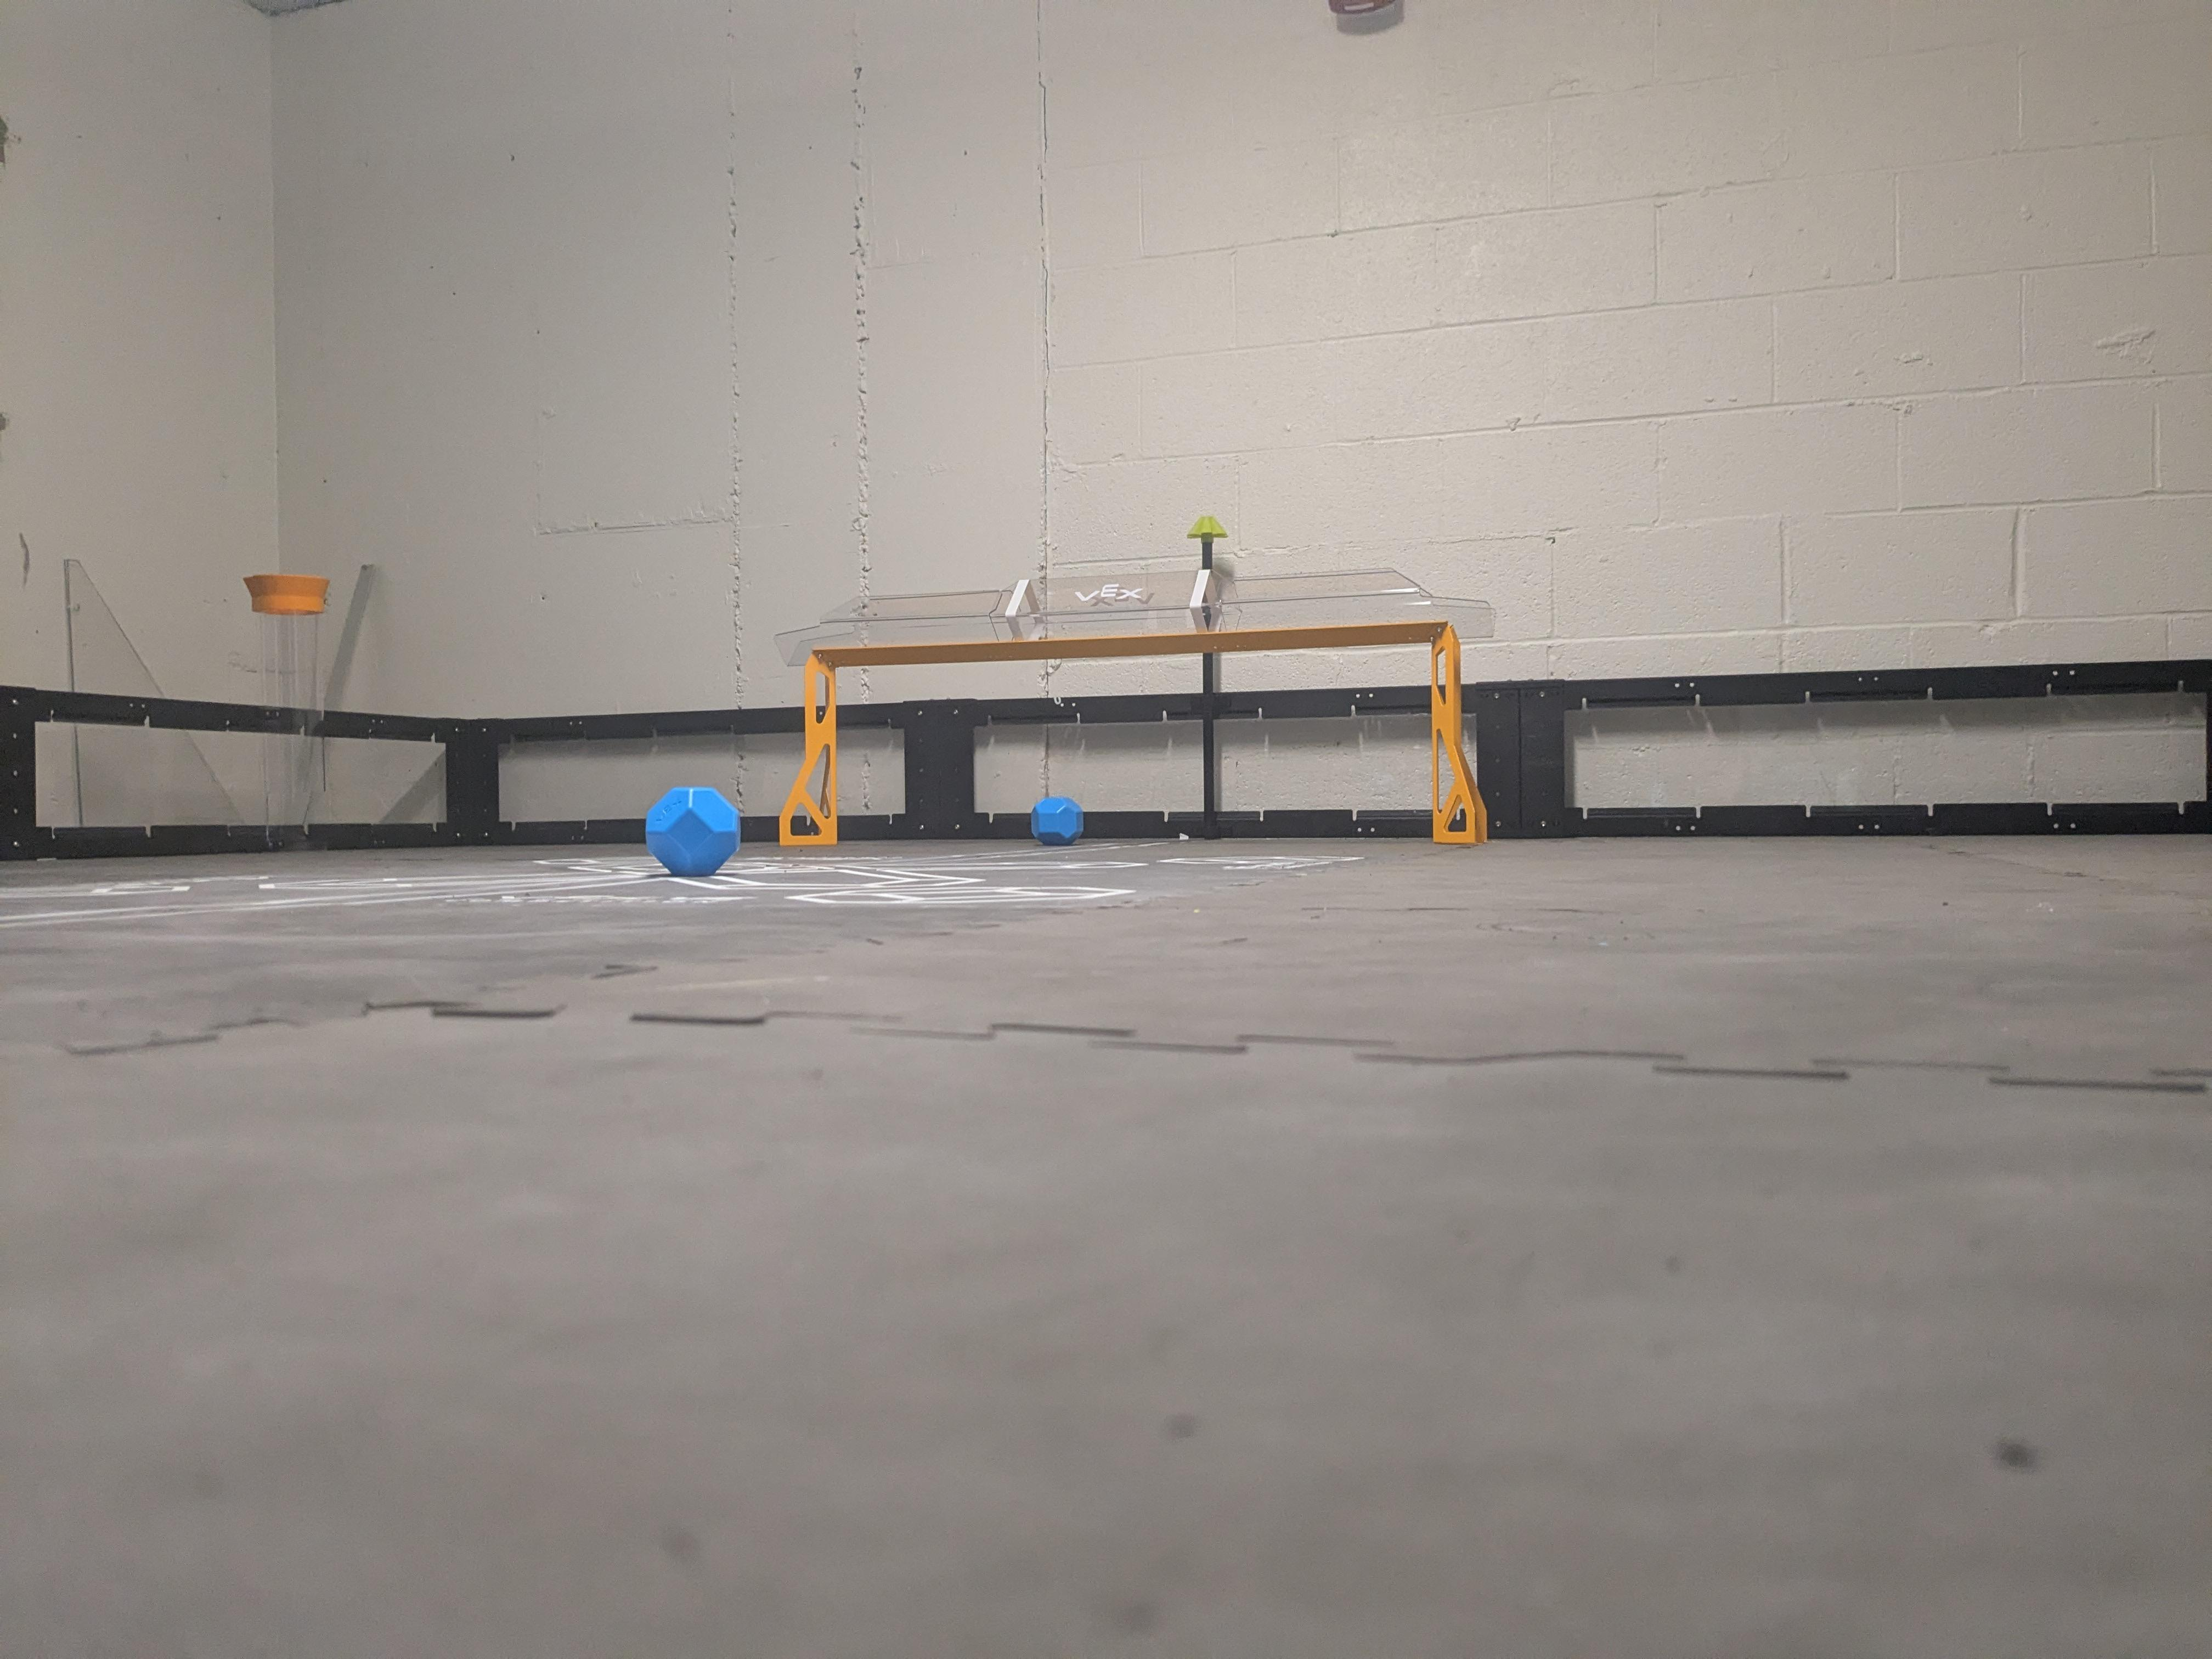Vex-Pieces-BLUE: (646, 784, 742, 873), (1029, 798, 1085, 845)
